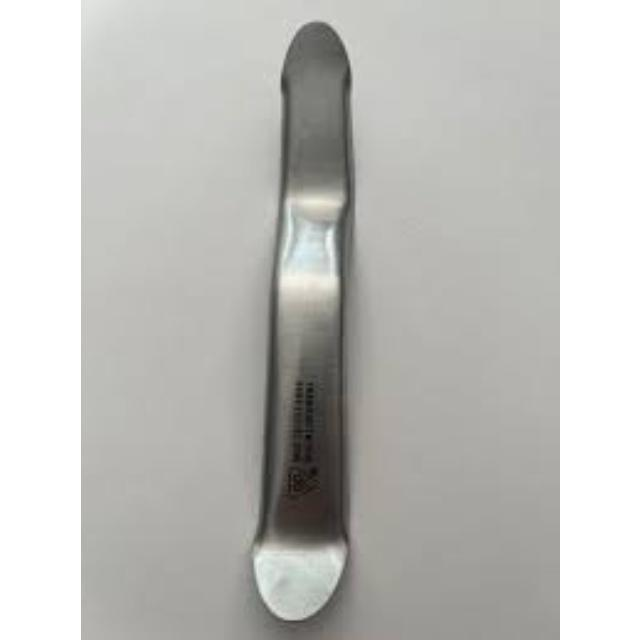separador: (250, 21, 354, 626)
